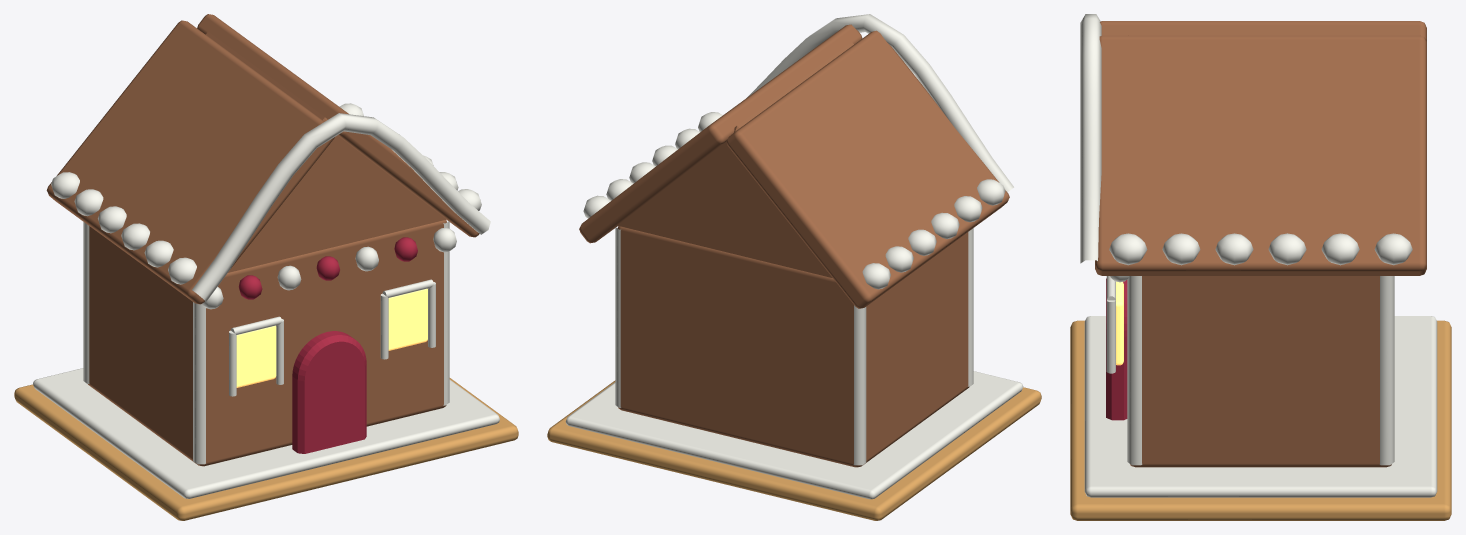
Rendered from storybook-christmas-market-iced-gingerbread-house-4dfd219b__19722.glb.
3 views of the same model, side by side, from view 1: azimuth 30°, elevation 25°; view 2: azimuth 150°, elevation 25°; view 3: azimuth 270°, elevation 25° (orthographic). The views are drawn at different scales.
Parts seen in each view (by area): view 1: iced-gingerbread-house; view 2: iced-gingerbread-house; view 3: iced-gingerbread-house.
Boxes of the visible parts, bbox=[...] form: iced-gingerbread-house: bbox=[14, 14, 518, 520]; iced-gingerbread-house: bbox=[547, 14, 1041, 520]; iced-gingerbread-house: bbox=[1070, 14, 1451, 520].
Bounding box in the file's own units: 1.08 × 1.09 × 0.9201.
